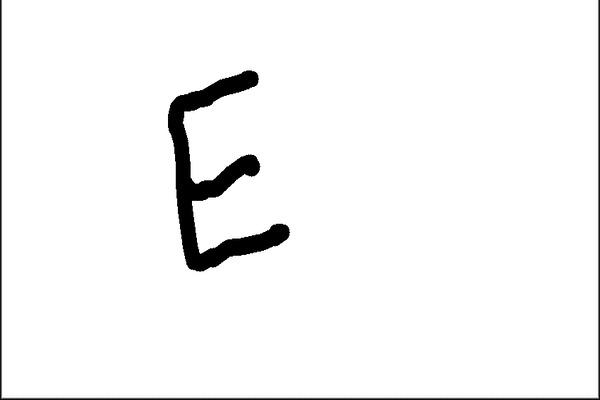E: (159, 65, 293, 275)
